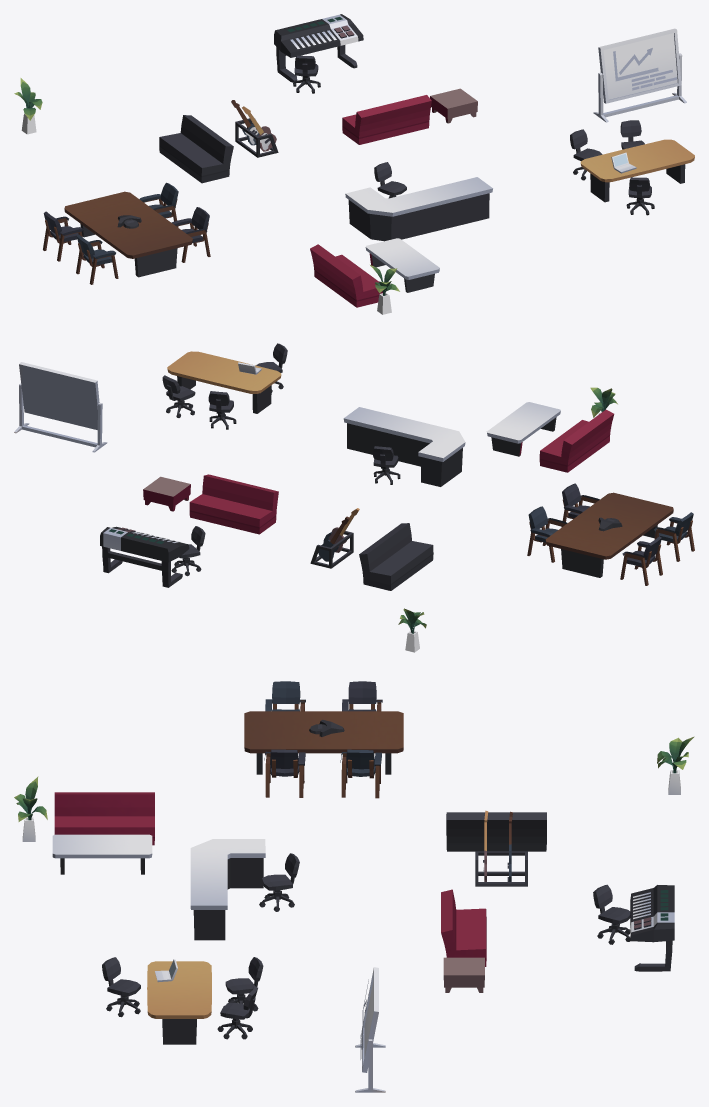
File: CMS_FullFurniturePreviewLayout.fbx
3 views of the same model, one above another, from view 1: azimuth 30°, elevation 25°; view 2: azimuth 150°, elevation 25°; view 3: azimuth 270°, elevation 25° (orthographic). The views are drawn at different scales.
Parts seen in each view (by area): view 1: PreviewFurnitureLayout; view 2: PreviewFurnitureLayout; view 3: PreviewFurnitureLayout.
Boxes of the visible parts, <box> form: PreviewFurnitureLayout: <box>14,14,694,314</box>; PreviewFurnitureLayout: <box>14,343,694,652</box>; PreviewFurnitureLayout: <box>14,681,694,1092</box>.
Size of the model in its own units: 9001 by 930 by 7073.
